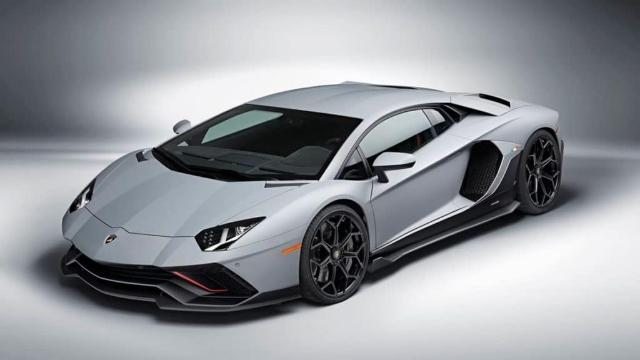lamborghini: (59, 81, 563, 315)
